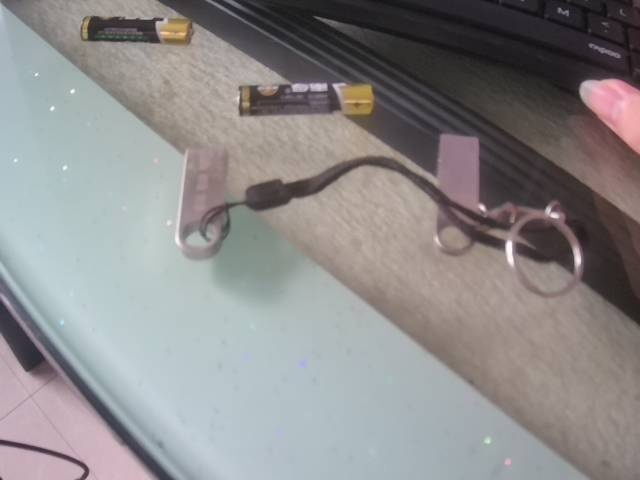U-disk: (424, 129, 504, 261), (172, 146, 241, 261)
battery: (231, 79, 383, 120), (75, 12, 204, 53)
